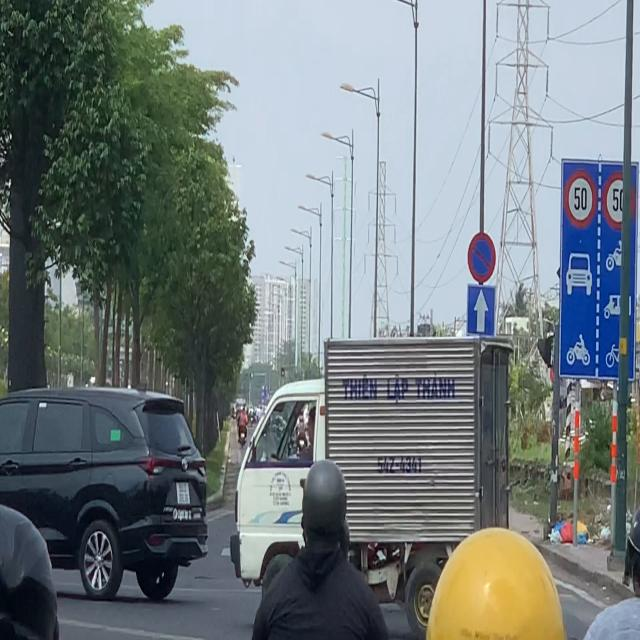Cam do: (468, 231, 497, 283)
Chi dan: (467, 284, 495, 338)
Toc do toi da: (564, 170, 597, 229), (602, 171, 631, 228)
